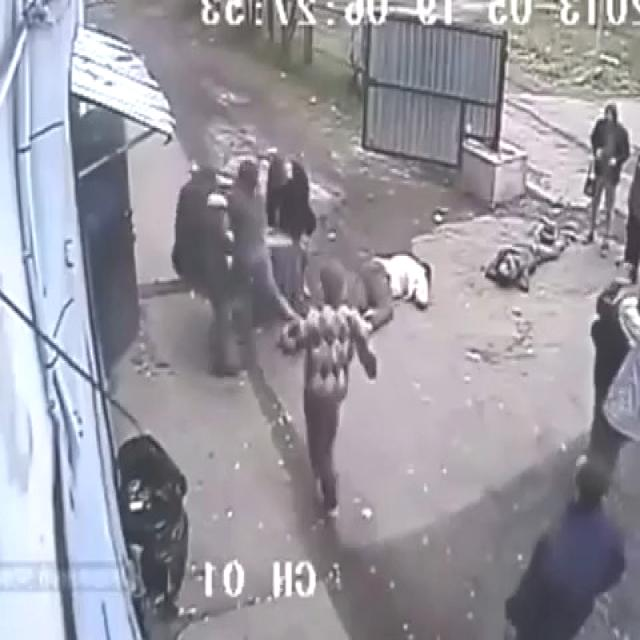fight: (127, 109, 352, 315), (362, 185, 561, 332)
